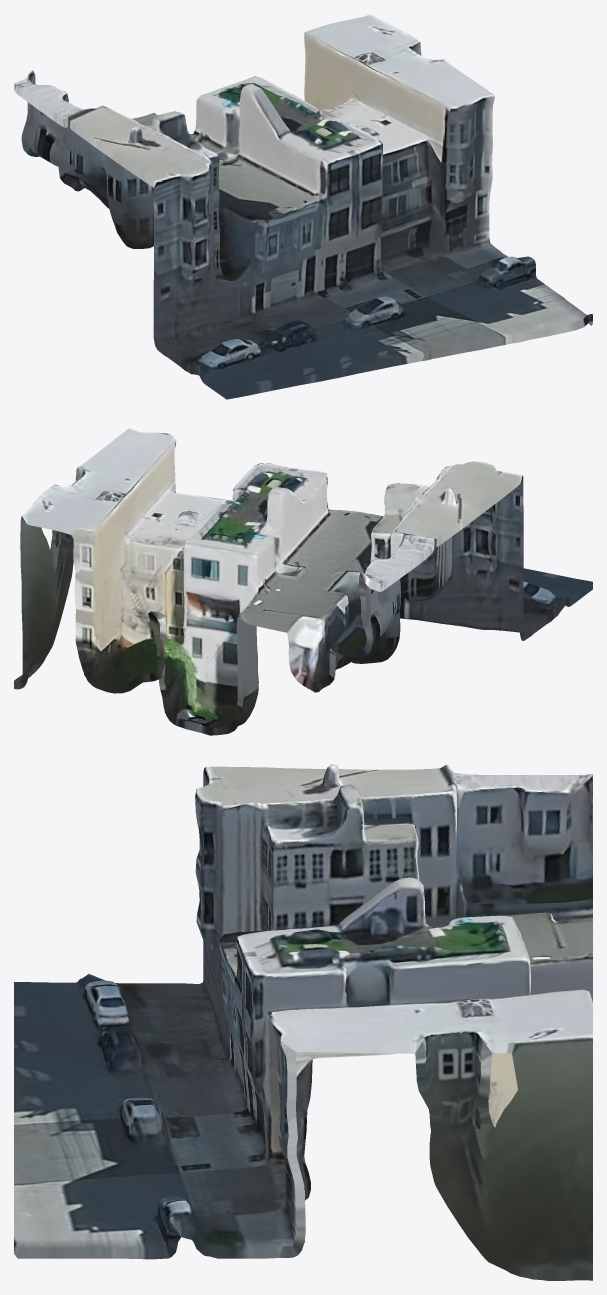
File: z20-167733-405192-h0-yup-uvflip-v3-world.glb
3 renders of one model, top to bottom at view 1: azimuth 30°, elevation 25°; view 2: azimuth 150°, elevation 25°; view 3: azimuth 270°, elevation 25°, orthographic. The views are drawn at different scales.
Bounding box in the file's own units: 30.16 × 16.8 × 30.32.
1 material, 1 textured.
